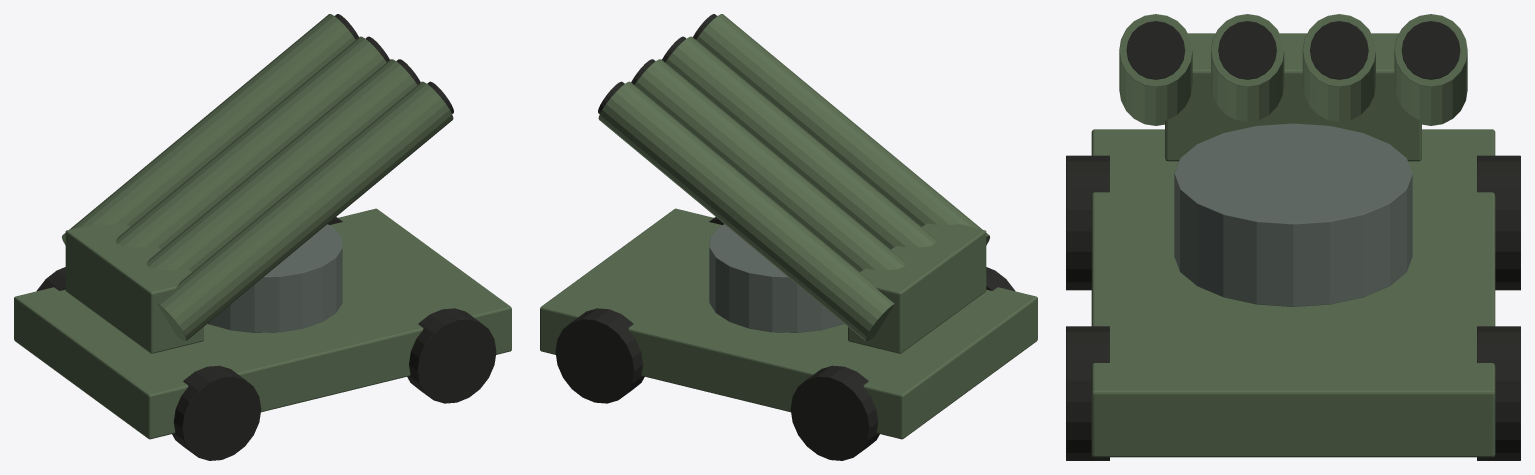
Rendered from AirDefenseLauncher.fbx.
3 views of the same model, side by side, from view 1: azimuth 30°, elevation 25°; view 2: azimuth 150°, elevation 25°; view 3: azimuth 270°, elevation 25° (orthographic). The views are drawn at different scales.
Visible parts, largest first — view 1: AirDefenseLauncher; view 2: AirDefenseLauncher; view 3: AirDefenseLauncher.
Part boxes in pixels (x1,y1,x2,y2): AirDefenseLauncher: [14, 14, 511, 460]; AirDefenseLauncher: [540, 14, 1037, 460]; AirDefenseLauncher: [1066, 14, 1520, 460].
Size of the model in its own units: 340 by 248 by 265.
